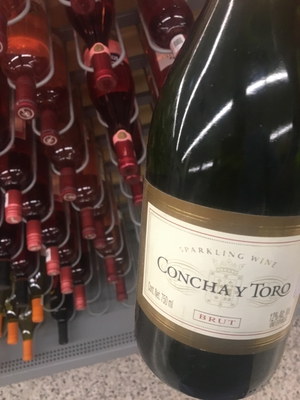brut: (137, 22, 300, 389)
